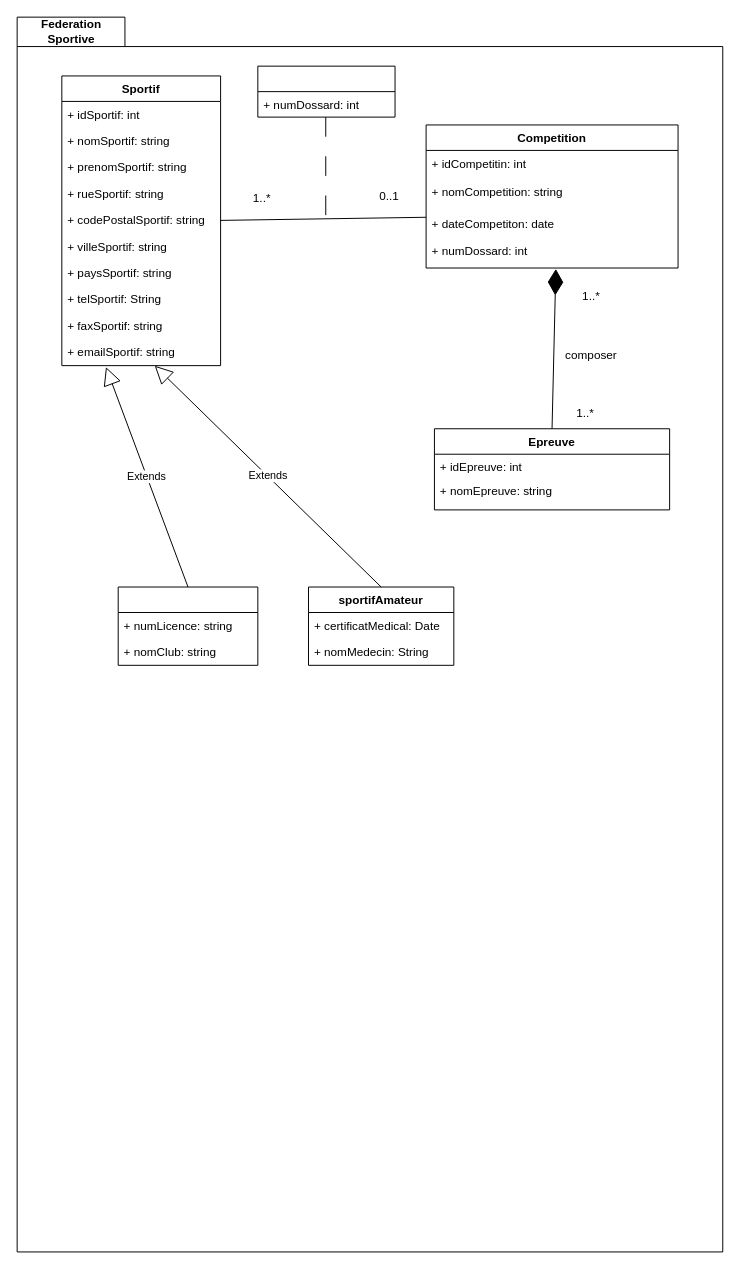
Some shapes in this 740 by 1269 pixel diagram are drawn without their labels. The box of each missing label's shape, as (x1, y1, x2, y2) in pixels:
Inscrire: (257, 65, 395, 117)
sportifLicencié: (117, 586, 258, 665)
